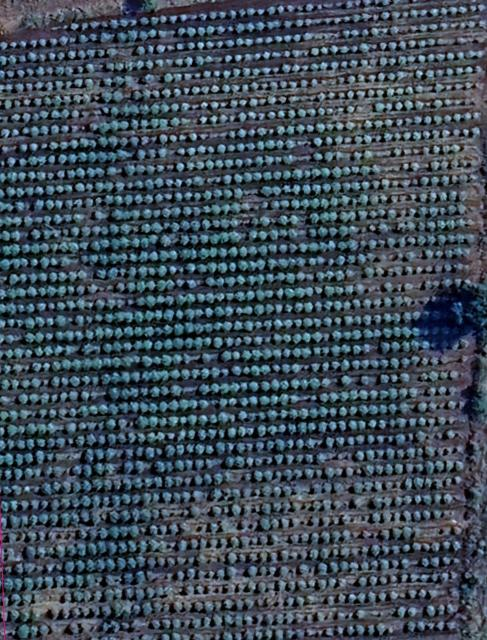Farms: (0, 7, 486, 638)
